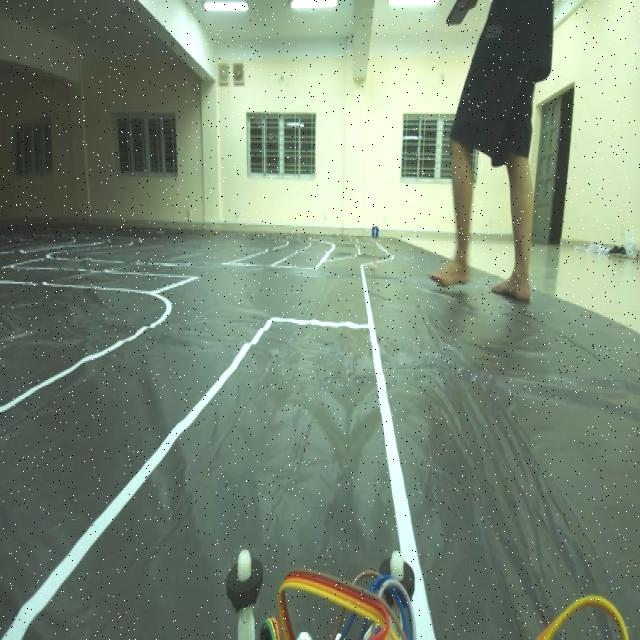onewayroad: (370, 220, 380, 244)
